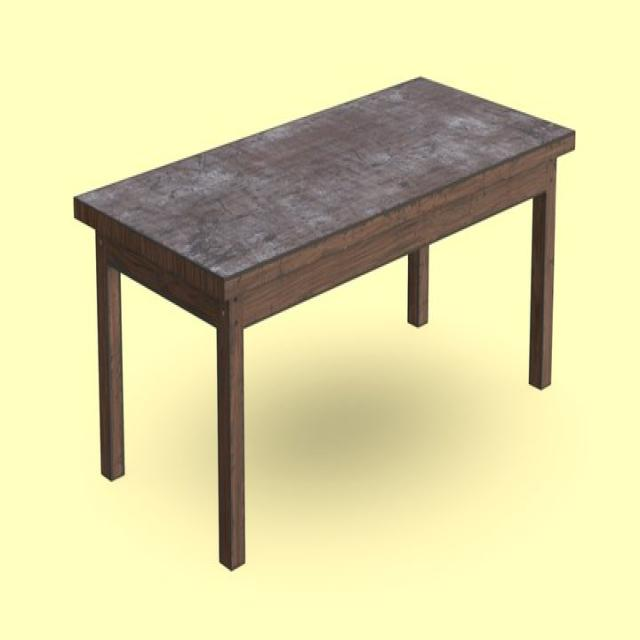table: (75, 74, 576, 570)
